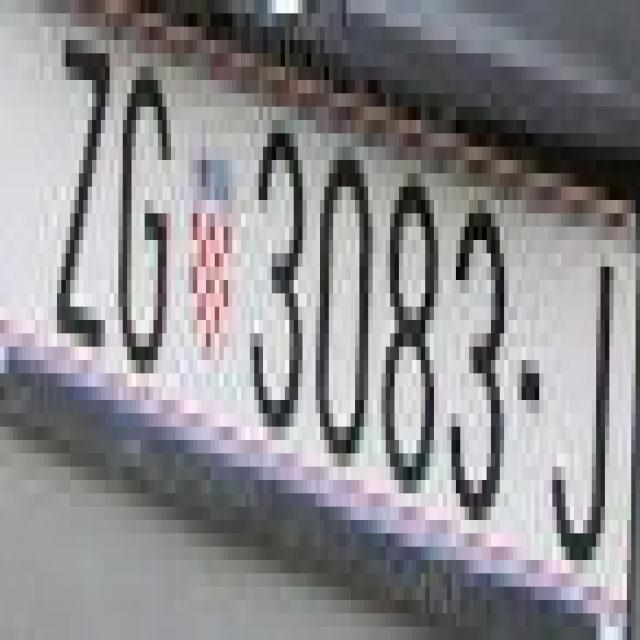0: (311, 133, 368, 467)
3: (443, 200, 504, 533), (250, 120, 302, 453)
8: (386, 160, 430, 480)
G: (118, 53, 180, 400)
Z: (48, 13, 110, 360)
